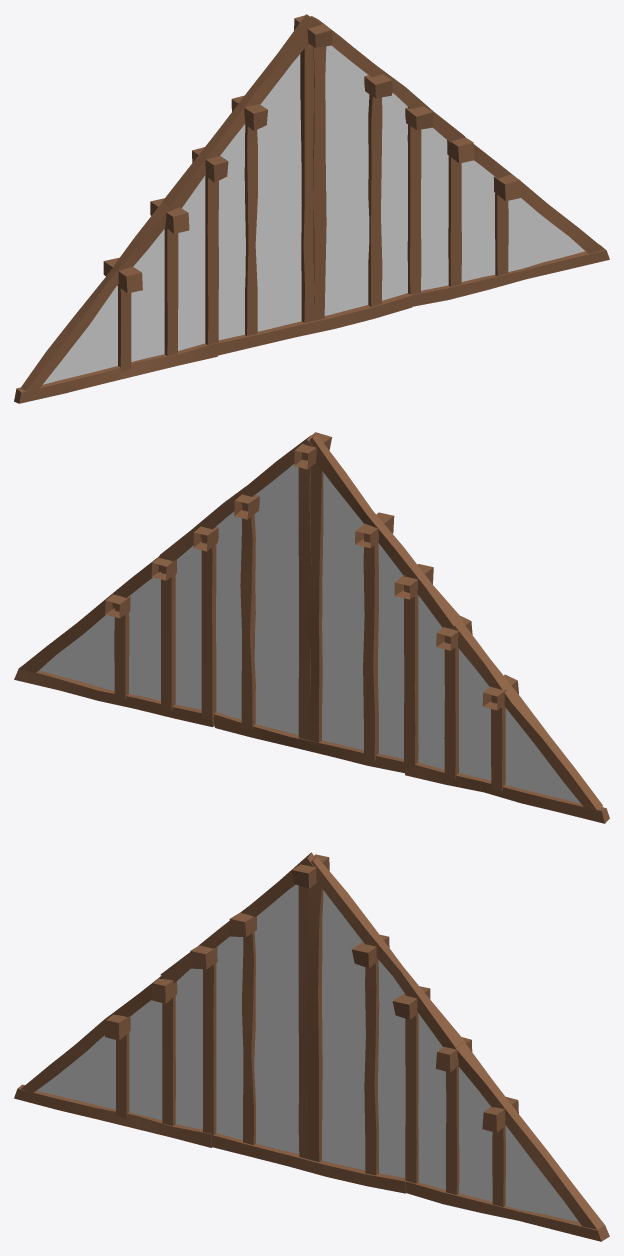
File: PlasterRoofWall.fbx
3 views of the same model, one above another, from view 1: azimuth 30°, elevation 25°; view 2: azimuth 150°, elevation 25°; view 3: azimuth 330°, elevation 25° (orthographic).
Parts seen in each view (by area): view 1: PlasterRoofWall; view 2: PlasterRoofWall; view 3: PlasterRoofWall.
Part boxes in pixels (x1=…): PlasterRoofWall: x1=14, y1=14, x2=609, y2=403; PlasterRoofWall: x1=14, y1=432, x2=609, y2=823; PlasterRoofWall: x1=14, y1=852, x2=609, y2=1241.
Size of the model in its own units: 611 by 313 by 41.84.
